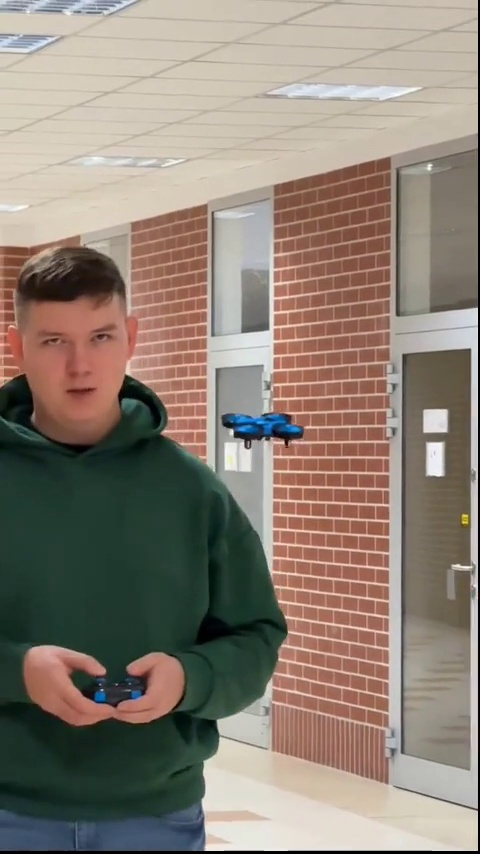drone: (224, 411, 305, 448)
no vest: (2, 241, 286, 848)
